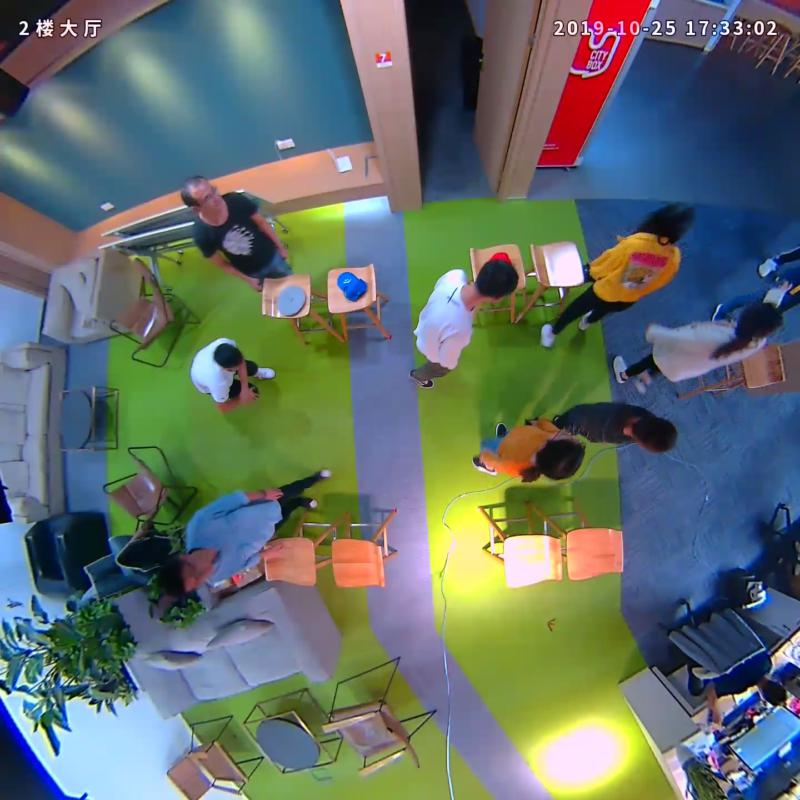head: (622, 407, 687, 461), (154, 543, 219, 597), (728, 297, 788, 352), (461, 253, 522, 307), (636, 198, 704, 245), (532, 430, 590, 485), (175, 173, 224, 225), (208, 341, 255, 380)
